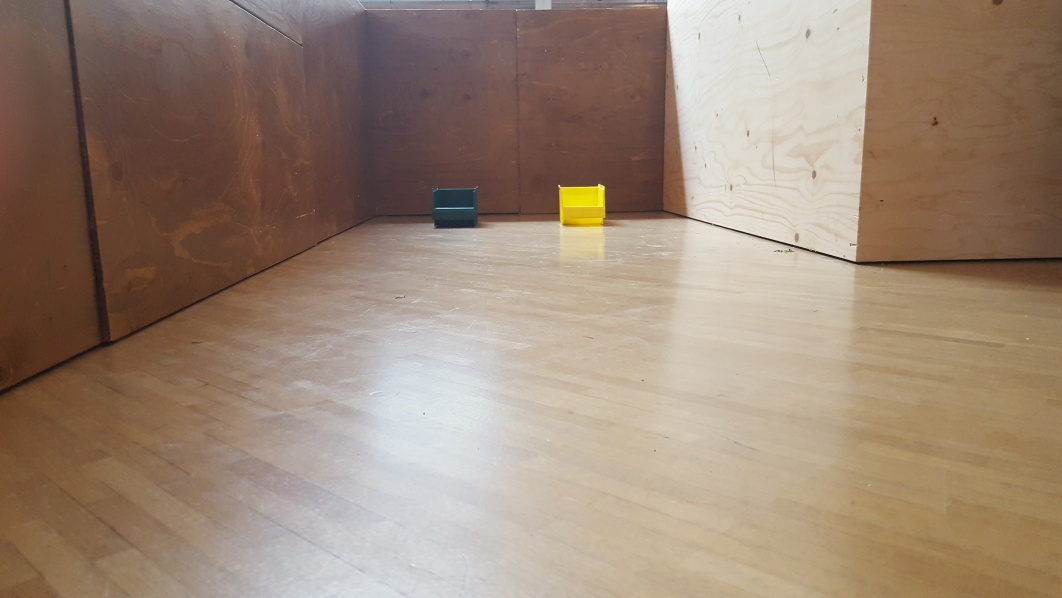tray: (554, 182, 610, 229), (428, 184, 481, 225)
